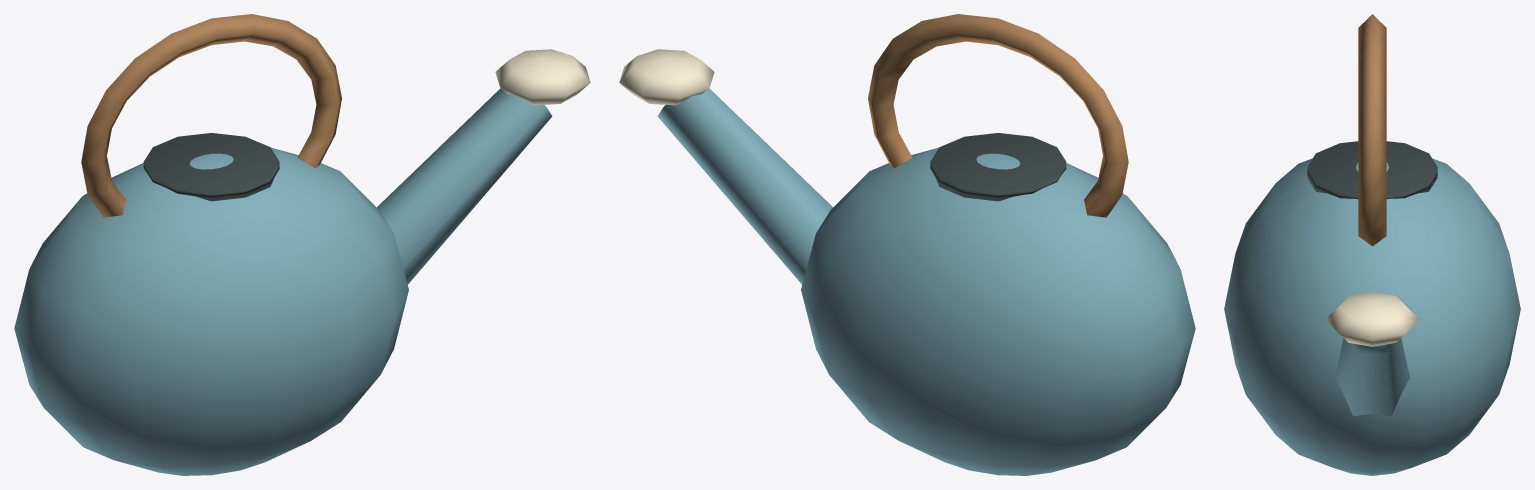
Rendered from quest_watering_can.glb.
3 renders of one model, left to right at view 1: azimuth 30°, elevation 25°; view 2: azimuth 150°, elevation 25°; view 3: azimuth 270°, elevation 25°, orthographic. The views are drawn at different scales.
Size of the model in its own units: 0.52 by 0.395 by 0.25.
